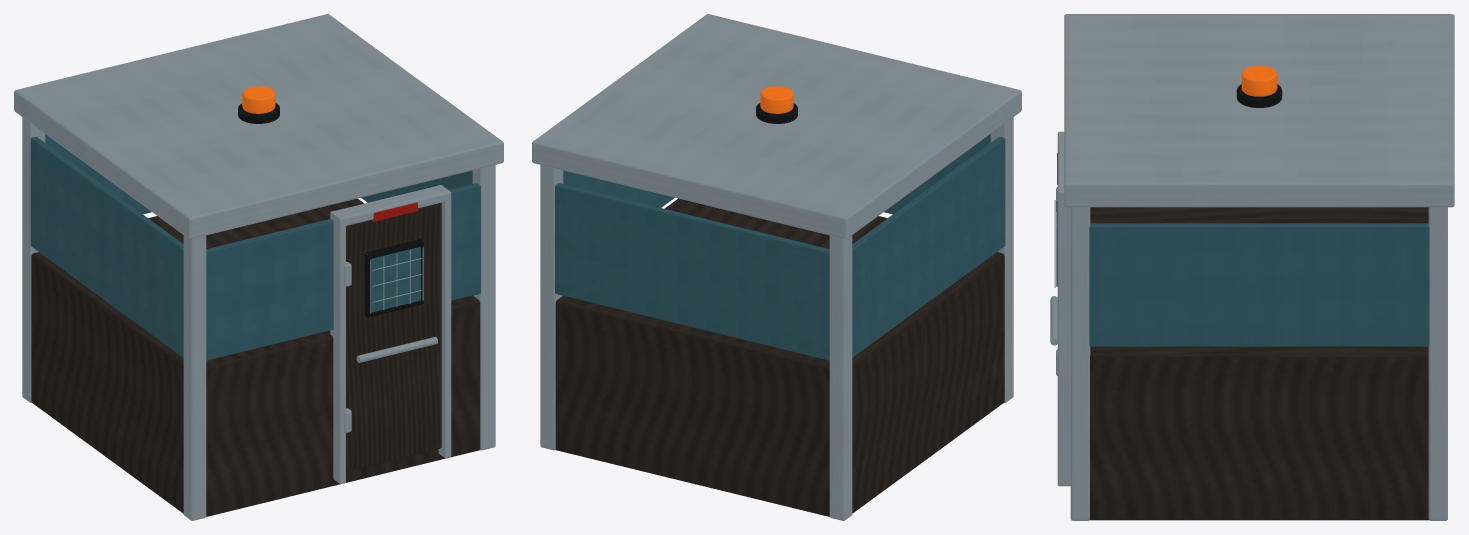
The model's file is guardhut.glb.
The picture shows the model from 3 angles, left to right: view 1: azimuth 30°, elevation 25°; view 2: azimuth 150°, elevation 25°; view 3: azimuth 270°, elevation 25°; orthographic projection. The views are drawn at different scales.
Parts seen in each view (by area): view 1: guardhut; view 2: guardhut; view 3: guardhut.
Boxes of the visible parts, x1,y1,x2,y2 form: guardhut: [14, 14, 503, 520]; guardhut: [532, 14, 1021, 520]; guardhut: [1050, 14, 1454, 520].
Bounding box in the file's own units: 2.4 × 2.4 × 2.4.
1 material, 1 textured.
